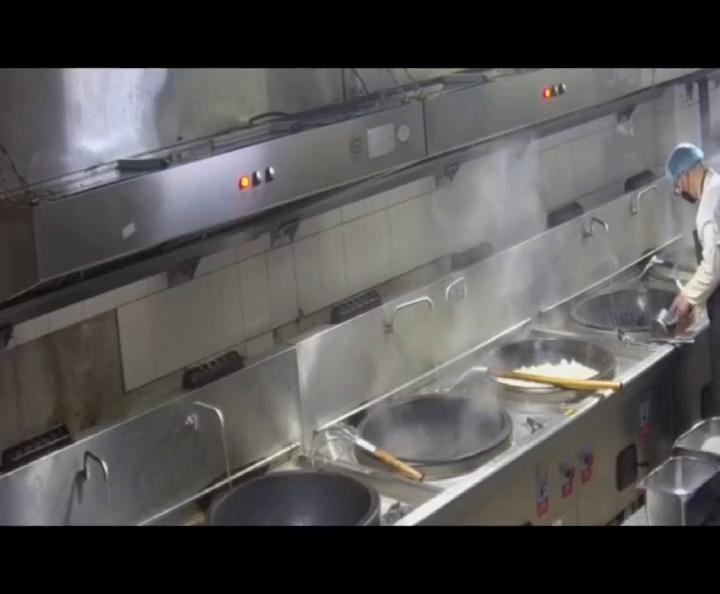gloves: (666, 142, 704, 180)
mask: (675, 178, 701, 207)
